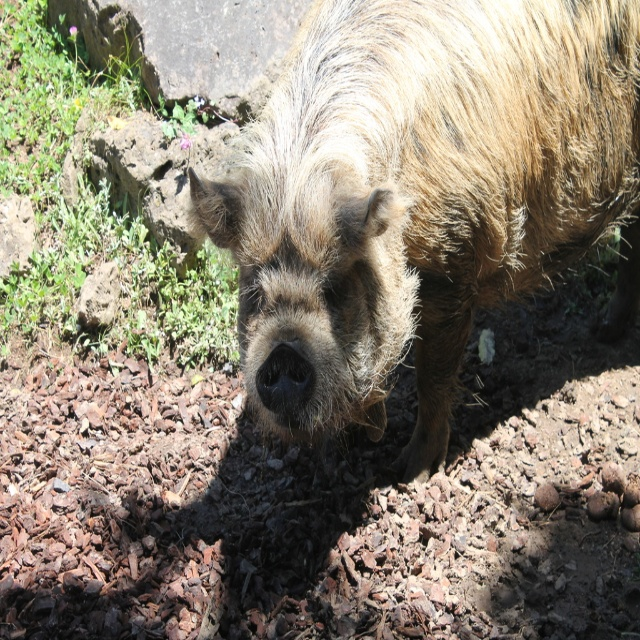Pig: (185, 0, 640, 485)
